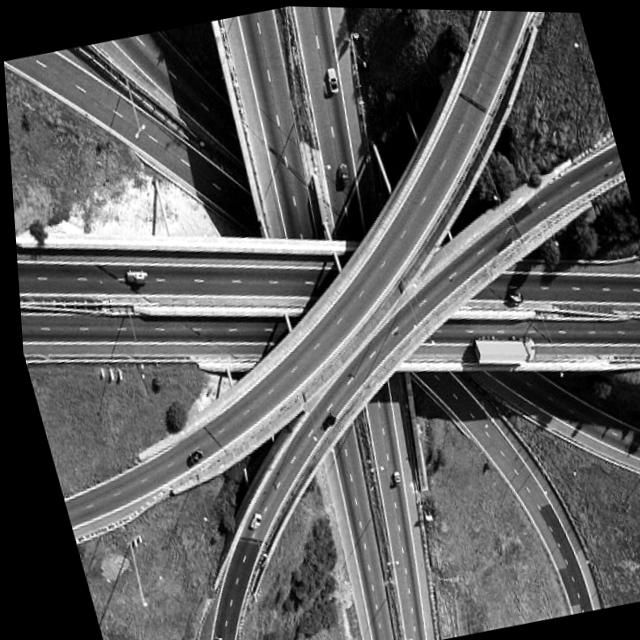cleat: (3, 5, 640, 640)
